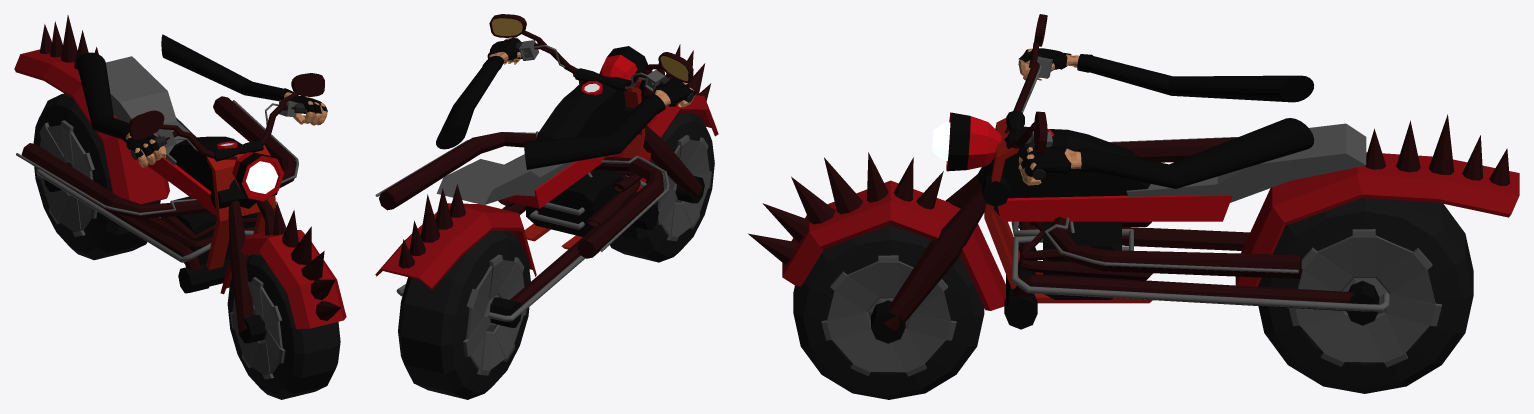
The model's file is руки.fbx.
3 renders of one model, left to right at view 1: azimuth 30°, elevation 25°; view 2: azimuth 150°, elevation 25°; view 3: azimuth 270°, elevation 25°, orthographic. The views are drawn at different scales.
Visible parts, largest first — view 1: Окружность.001, Cylinder.016, Cylinder.012, Cylinder.008, Cylinder.015, Cylinder.014, Plane, Цилиндр.001, Цилиндр.020, Cone, Plane.002, Cylinder (+17 smaller); view 2: Cylinder.012, Окружность.001, Cylinder.008, Cylinder.015, Цилиндр.001, Plane, Cylinder.016, Plane.001, Cube, Цилиндр.020, Cone.001, Cube.001 (+18 smaller); view 3: Cylinder.012, Окружность.001, Цилиндр.001, Cylinder.016, Cylinder.015, Цилиндр.020, Cylinder.014, Cylinder.008, Cylinder.004, Plane, Cube.001, Cone (+16 smaller).
Boxes of the visible parts, x1,y1,x2,y2 form: Окружность.001: [77, 34, 327, 167]; Cylinder.016: [227, 254, 340, 399]; Cylinder.012: [33, 93, 160, 260]; Cylinder.008: [21, 96, 296, 218]; Cylinder.015: [14, 49, 169, 204]; Cylinder.014: [220, 230, 346, 329]; Plane: [77, 56, 196, 164]; Цилиндр.001: [36, 120, 97, 236]; Цилиндр.020: [230, 277, 285, 379]; Cone: [265, 201, 340, 320]; Plane.002: [206, 145, 275, 269]; Cylinder: [228, 199, 275, 332]; Cylinder.012: [398, 230, 530, 399]; Окружность.001: [436, 37, 696, 169]; Cylinder.008: [379, 132, 663, 258]; Cylinder.015: [375, 203, 536, 289]; Цилиндр.001: [463, 254, 526, 375]; Plane: [436, 154, 575, 205]; Cylinder.016: [610, 113, 714, 262]; Plane.001: [535, 81, 625, 140]; Cube: [526, 169, 623, 236]; Цилиндр.020: [656, 135, 711, 241]; Cone.001: [398, 184, 465, 268]; Cube.001: [502, 154, 613, 208]; Cylinder.012: [1258, 198, 1473, 393]; Окружность.001: [1018, 48, 1314, 188]; Цилиндр.001: [1288, 229, 1441, 367]; Cylinder.016: [793, 224, 984, 399]; Cylinder.015: [1235, 152, 1519, 286]; Цилиндр.020: [821, 255, 956, 376]; Cylinder.014: [782, 180, 1005, 310]; Cylinder.008: [1049, 137, 1301, 278]; Cylinder.004: [1013, 225, 1354, 310]; Plane: [1126, 123, 1366, 202]; Cube.001: [997, 195, 1232, 221]; Cone: [748, 152, 943, 264].
Size of the model in its own units: 179 by 197 by 426.
